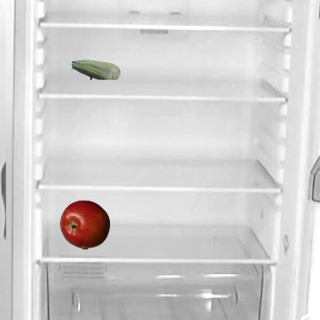Apple Braeburn: (59, 199, 109, 249)
Corn Husk: (70, 44, 120, 94)
